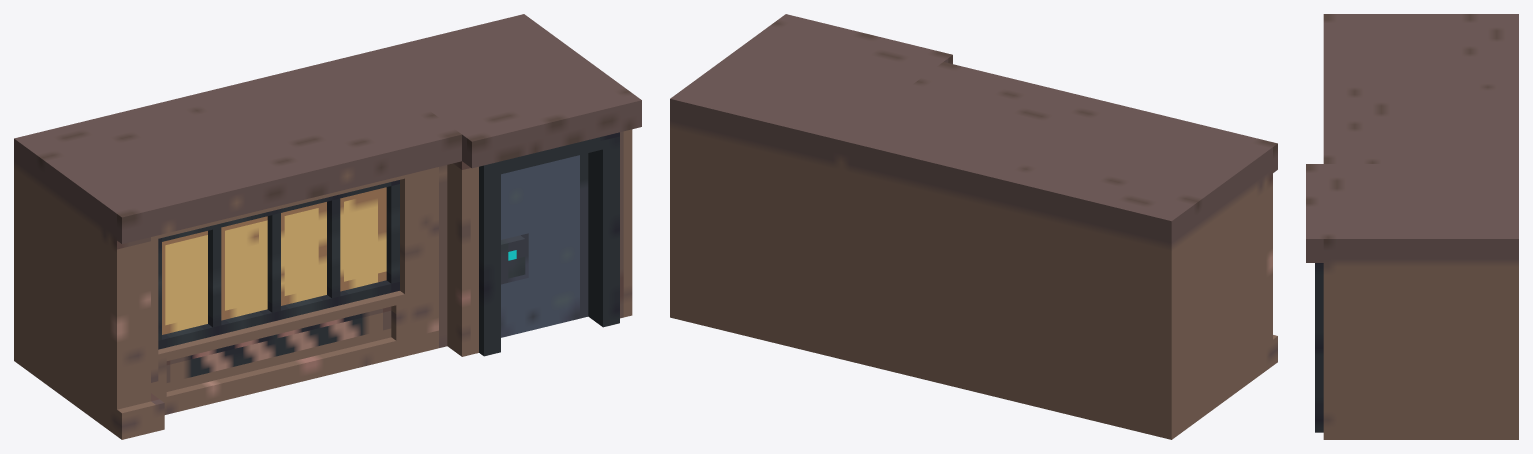
File: BuildingBlock-1.fbx
The picture shows the model from 3 angles, left to right: view 1: azimuth 30°, elevation 25°; view 2: azimuth 150°, elevation 25°; view 3: azimuth 270°, elevation 25°; orthographic projection. The views are drawn at different scales.
Parts seen in each view (by area): view 1: BuildingBlock_1; view 2: BuildingBlock_1; view 3: BuildingBlock_1.
Part boxes in pixels (x1,y1,x2,y2): BuildingBlock_1: [14, 14, 641, 439]; BuildingBlock_1: [670, 14, 1277, 439]; BuildingBlock_1: [1306, 14, 1518, 439].
Size of the model in its own units: 600 by 250 by 240.
Materials: 2 (2 with a texture image).
